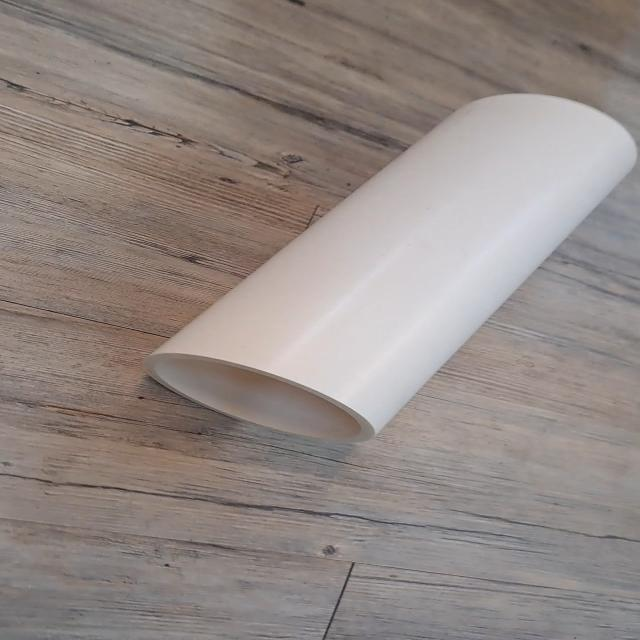CORAL: (143, 72, 627, 445)
